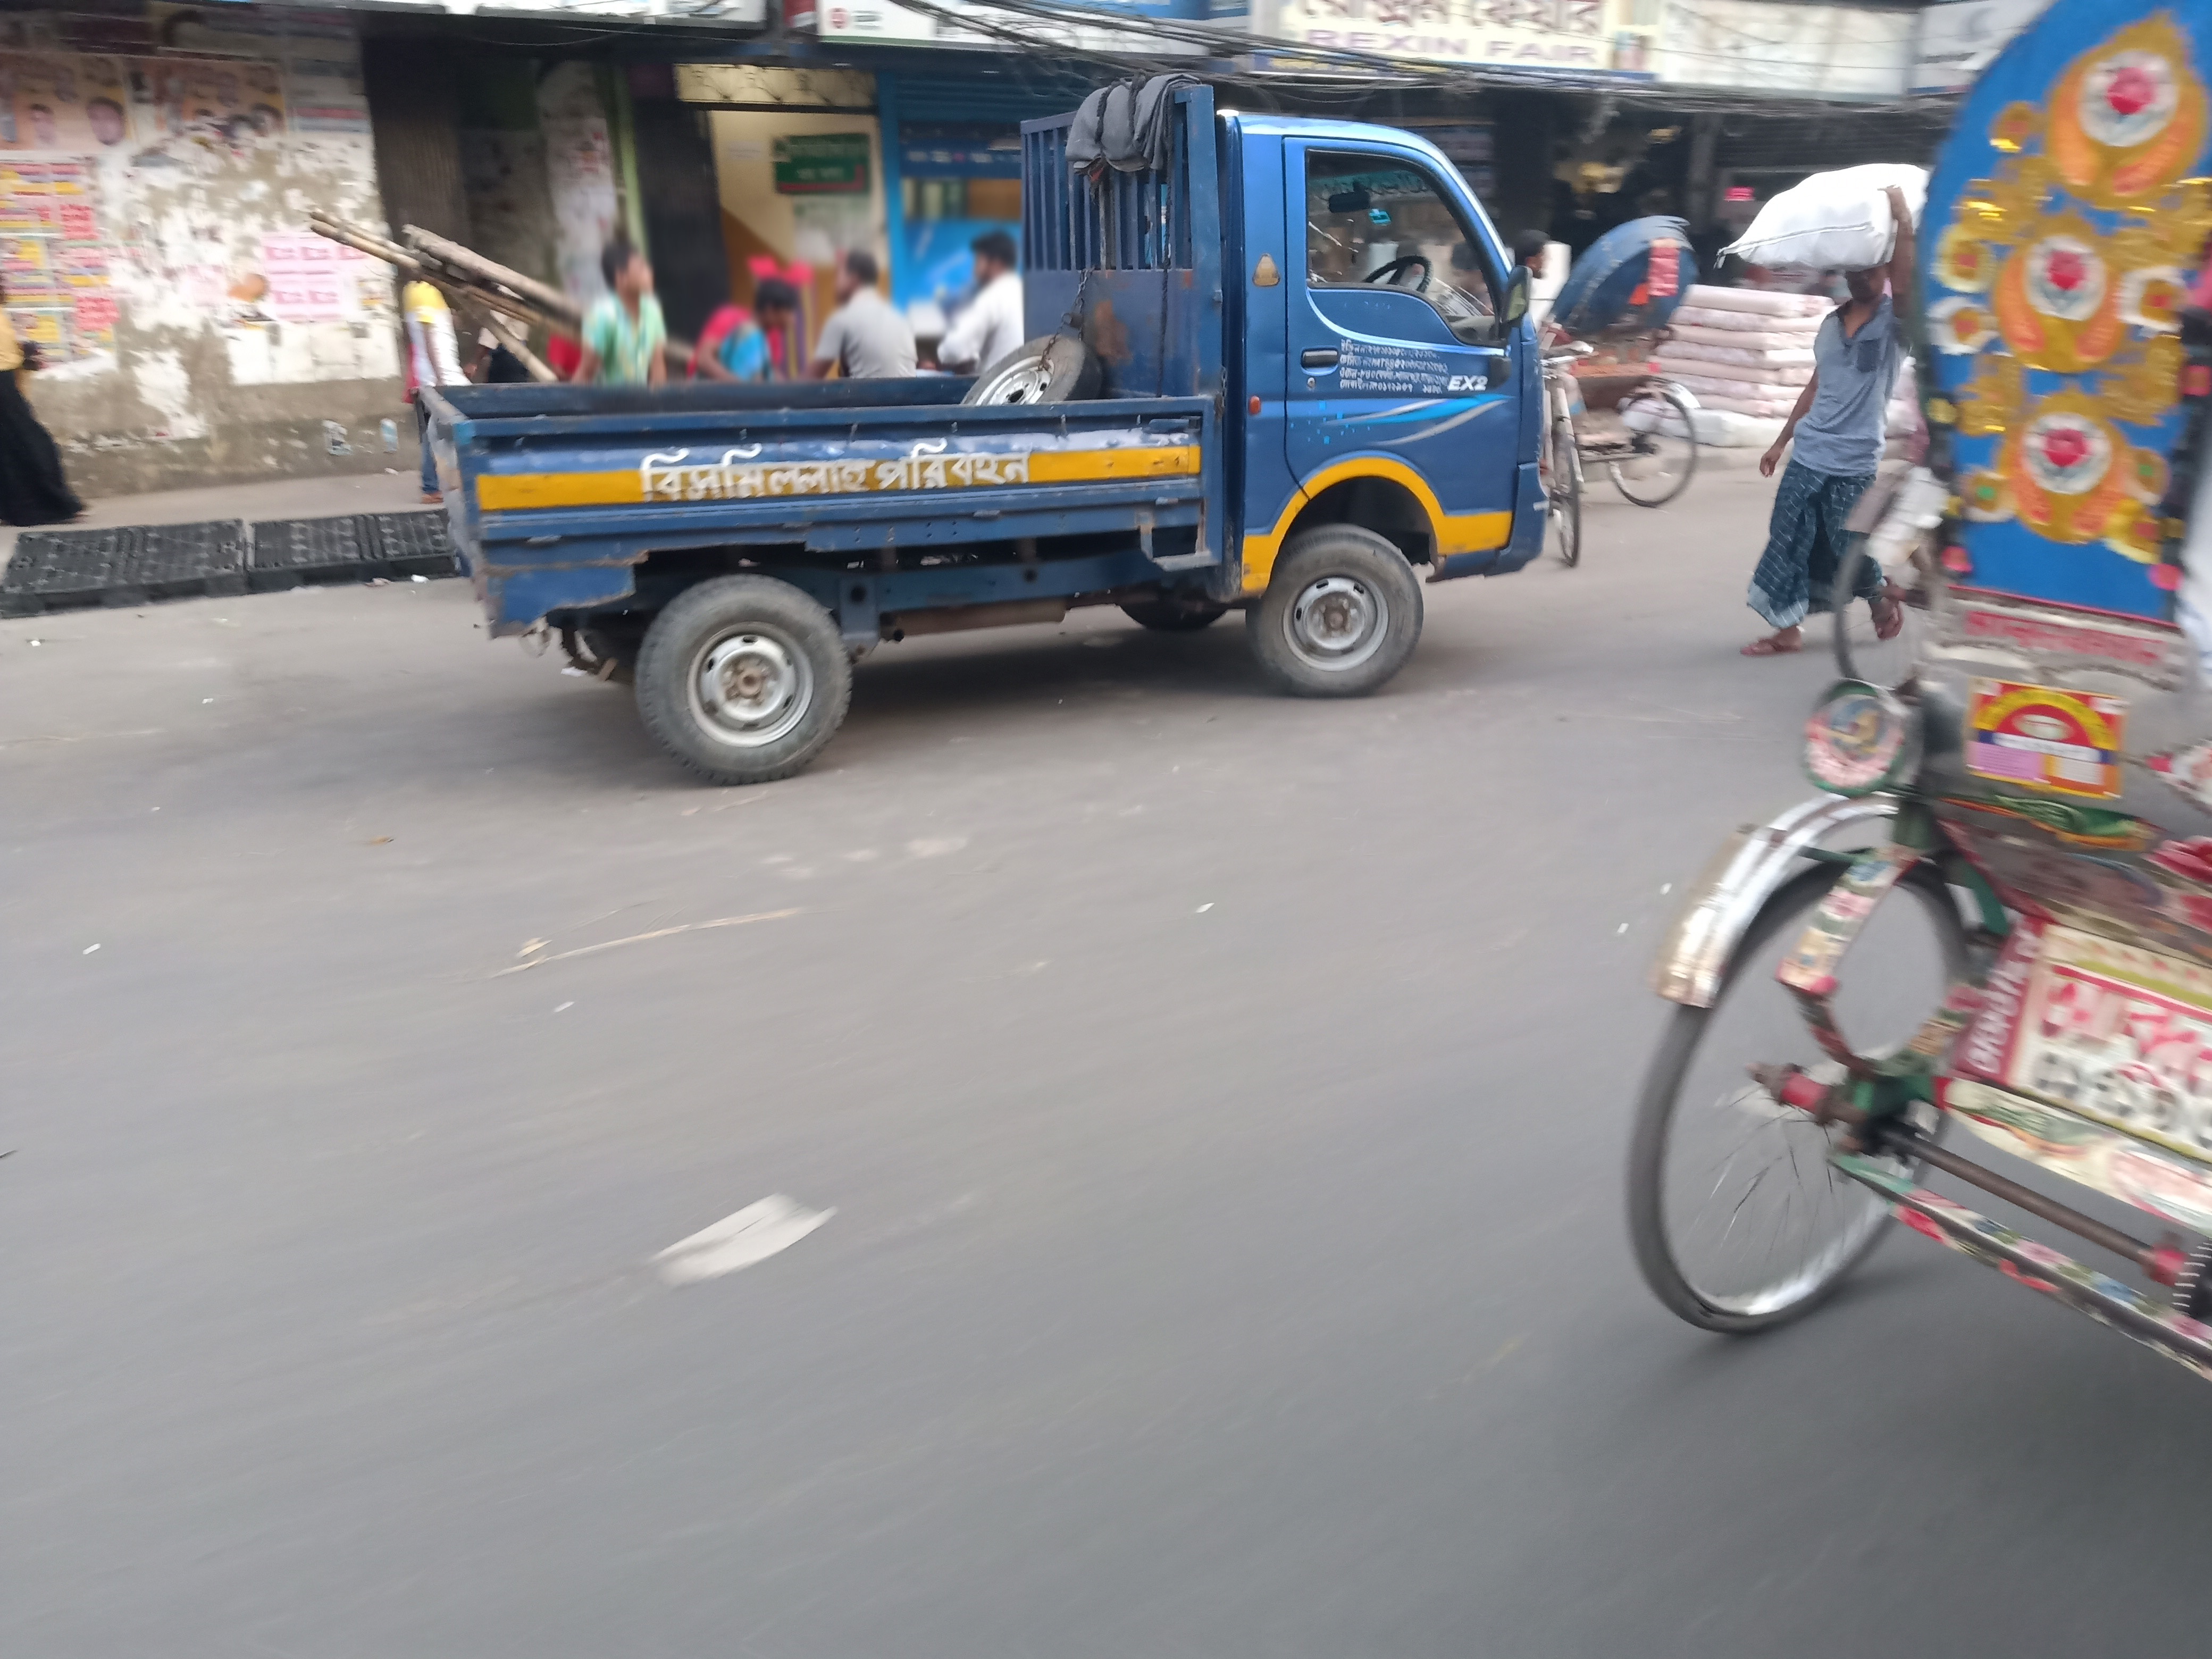rickshaw: (1622, 7, 2212, 1389), (1545, 211, 1721, 518)
truck: (408, 73, 1555, 793)
